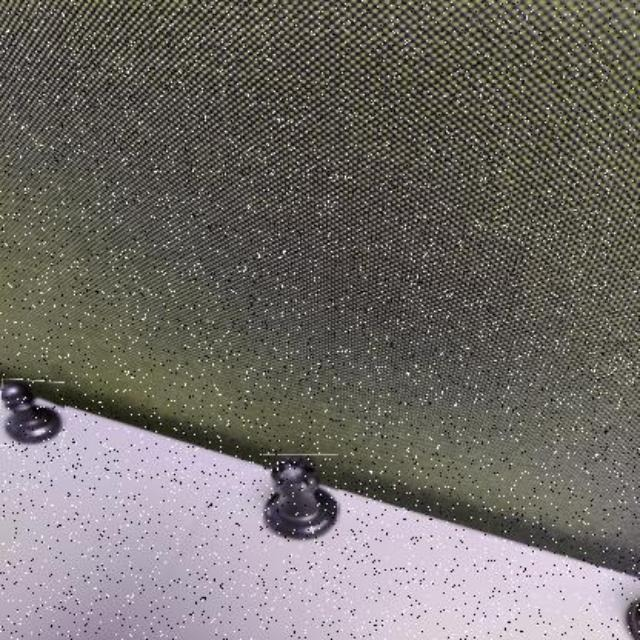black-pawn: (0, 378, 66, 447)
black-rook: (264, 454, 340, 538)
